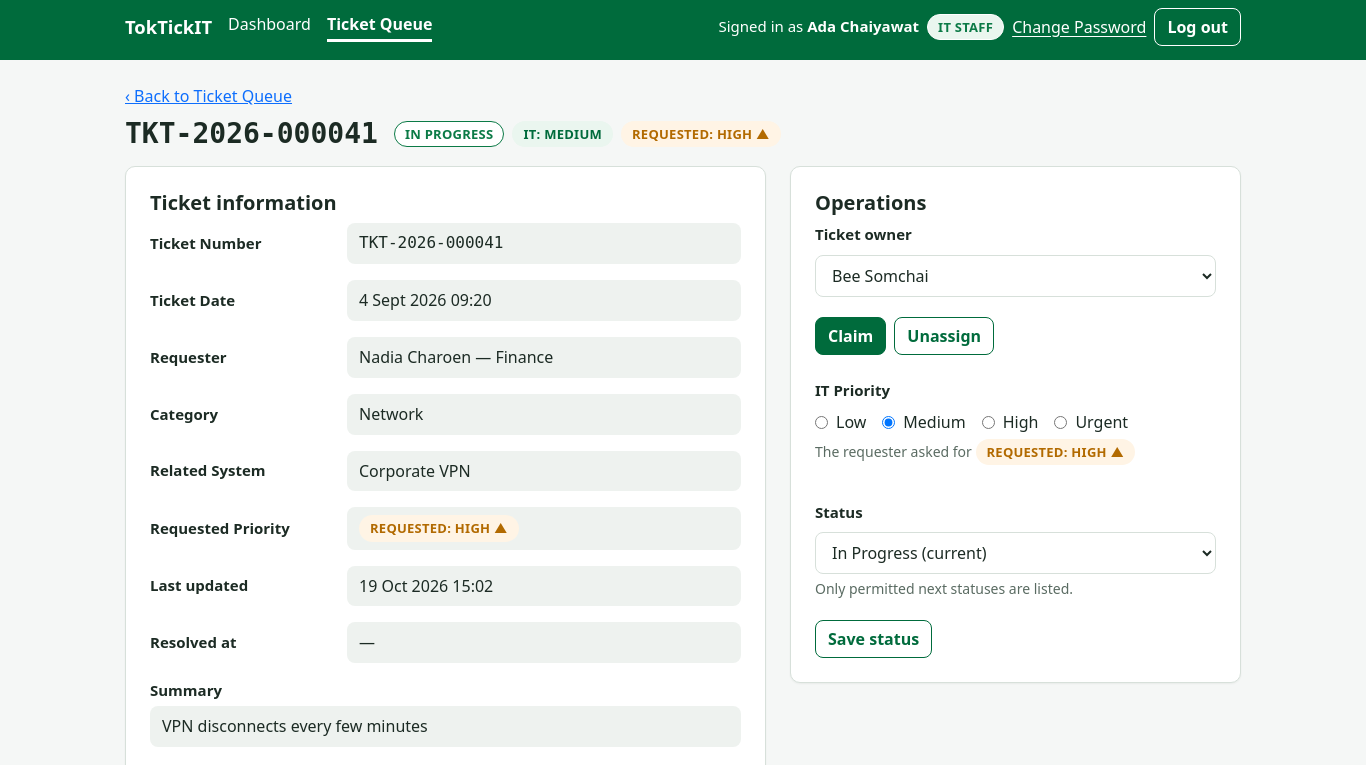
UI-24 the Resolve confirmation states the action count (ui-spec §6.4) › says "1 action" for one
Select "Resolved" in the dropdown labelled "Status" at (1016, 553), box top-left (815, 532), bottom-right (1216, 574)
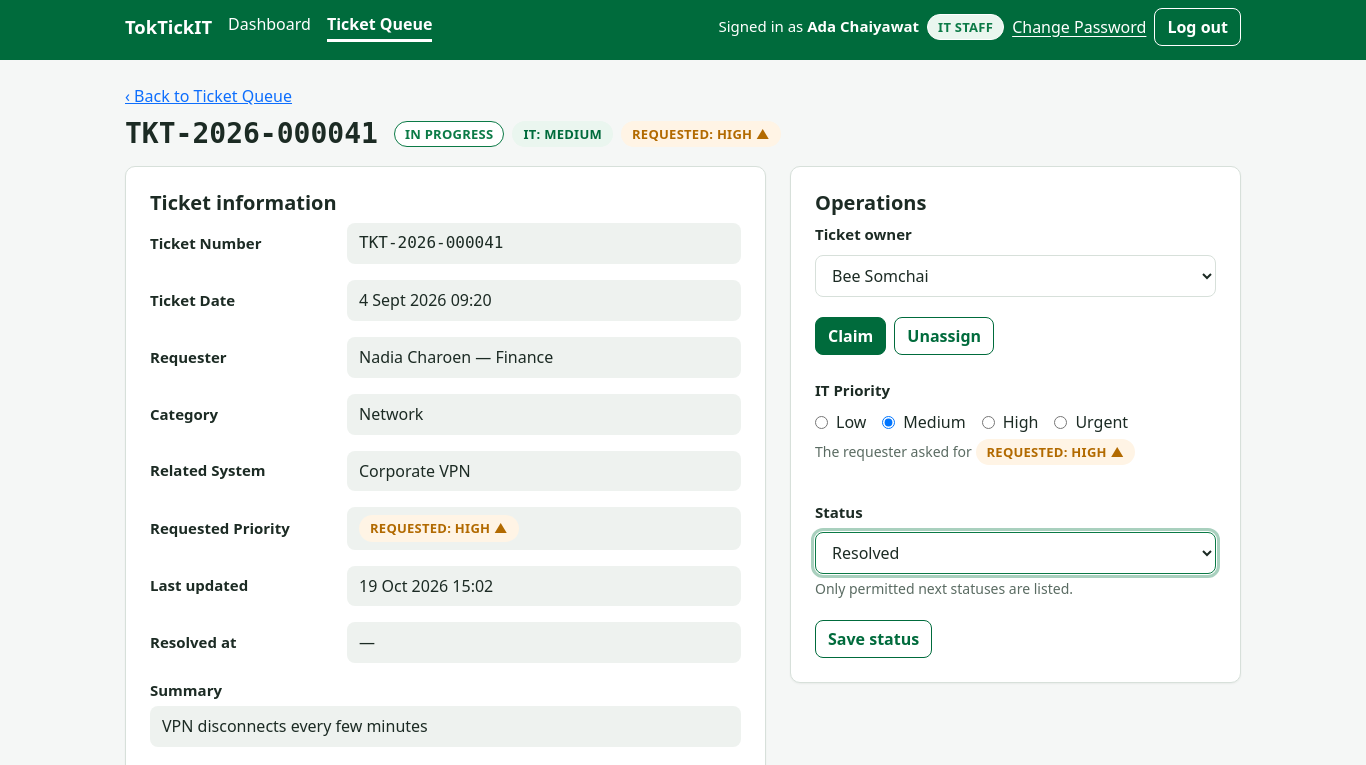
Click the button "Save status" at (874, 639), box top-left (815, 620), bottom-right (932, 658)
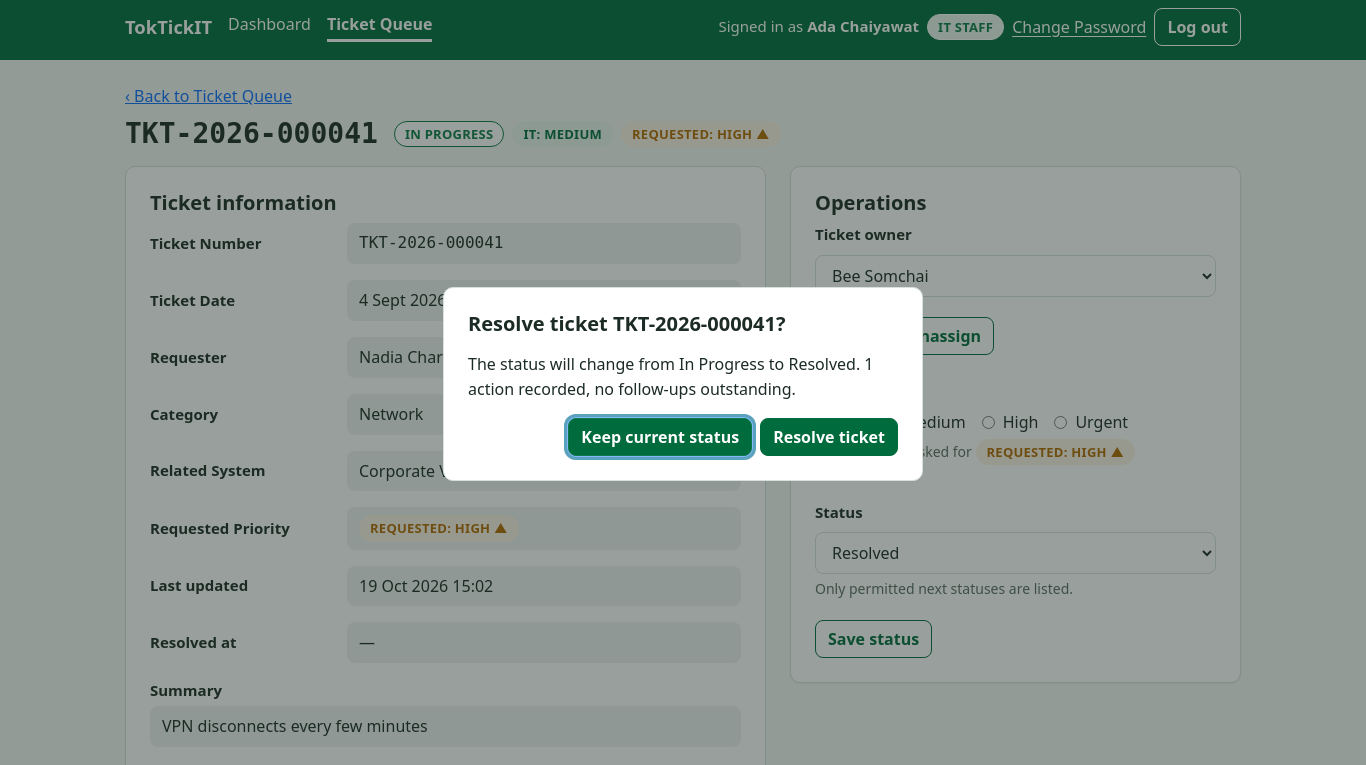
Expected: the dialog shows "1 action recorded, no follow-ups outstanding.", top-left (468, 353), bottom-right (874, 400)
